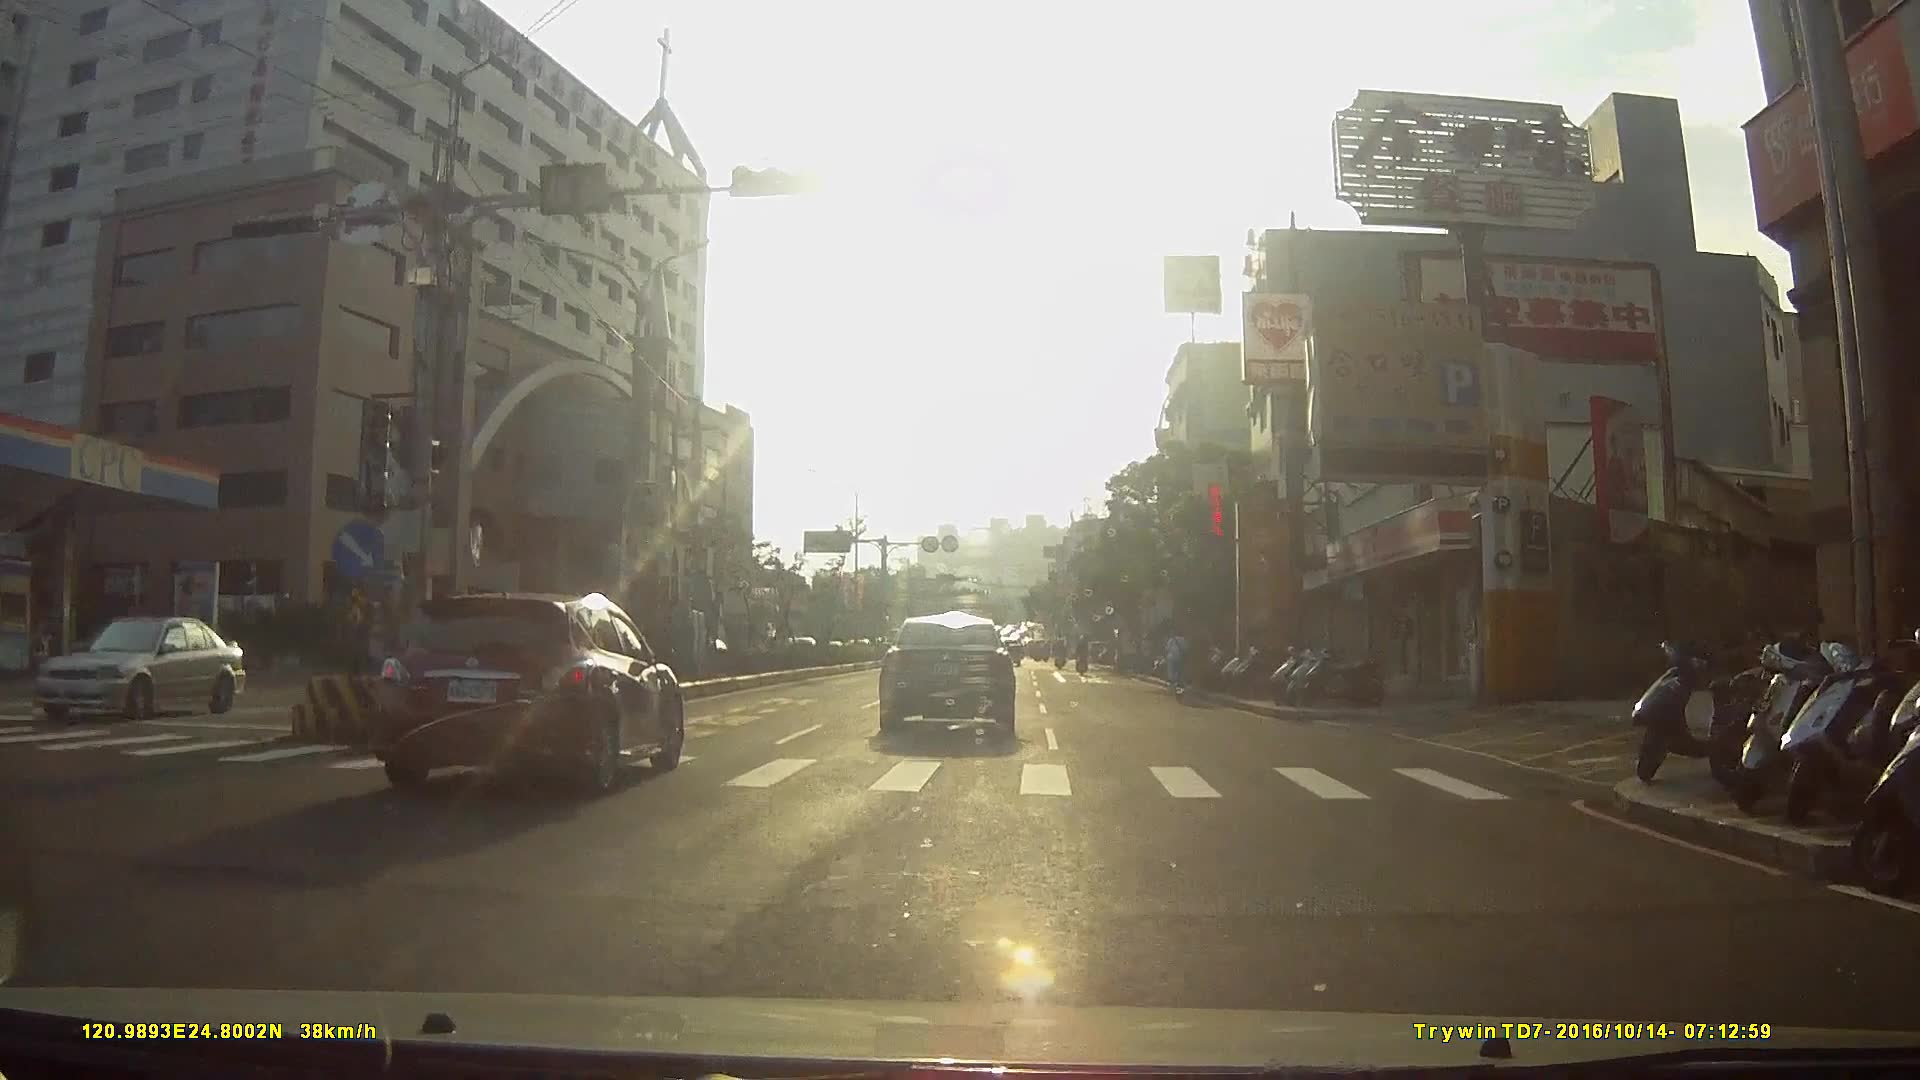rider: (1164, 624, 1193, 706)
vehicle: (370, 580, 696, 800), (47, 609, 255, 733), (872, 603, 1025, 738), (763, 607, 822, 662)
